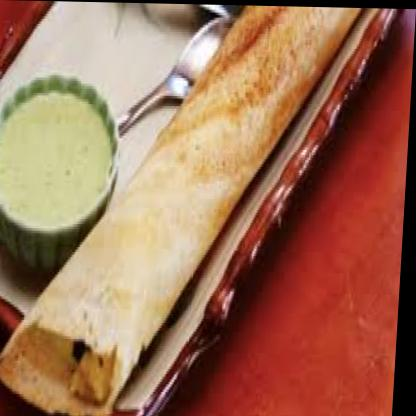dosa: (0, 0, 360, 416)
